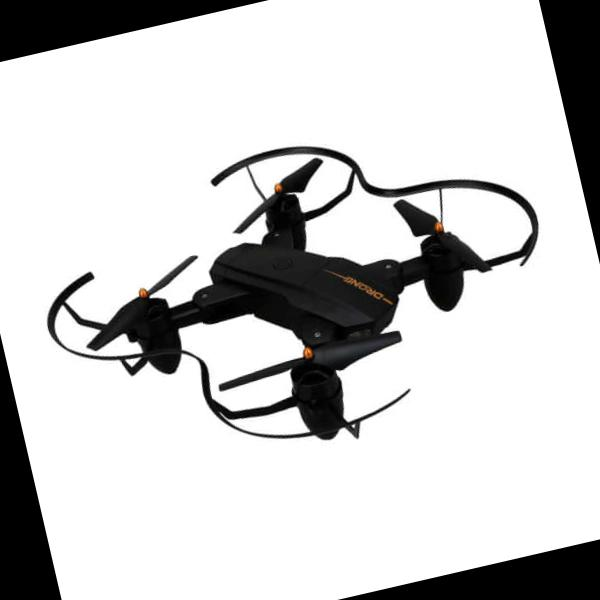drone: (19, 93, 576, 501)
